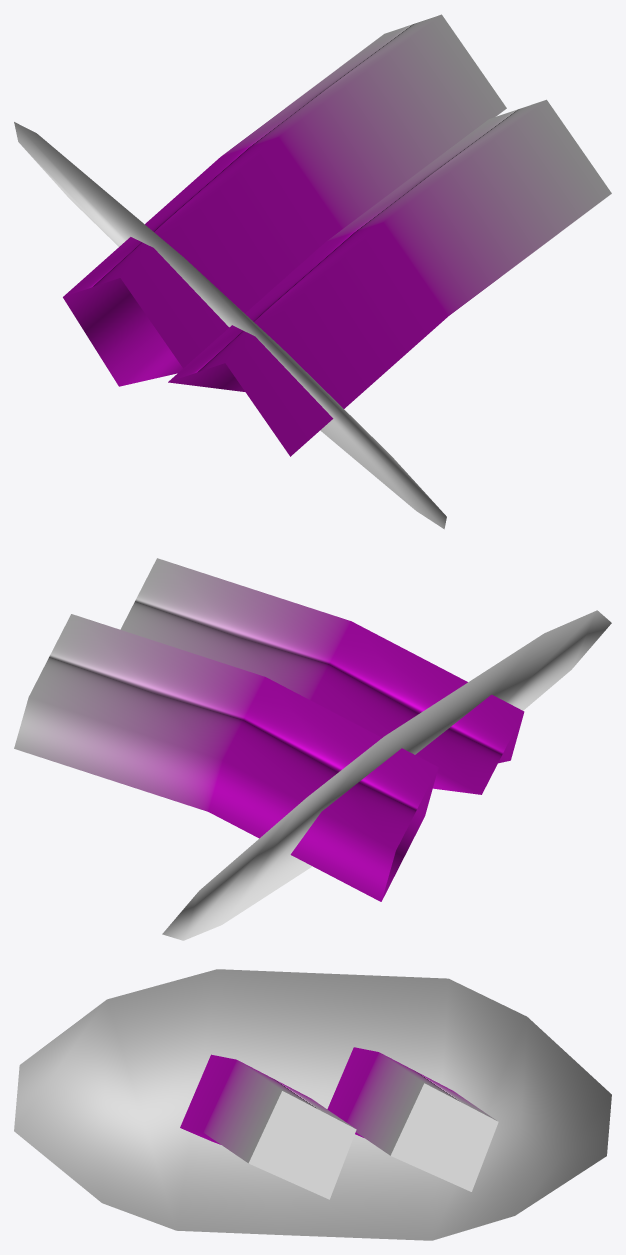
The model's file is Car_Mini_CountrymanJCW_2017_MirrorBaseL_SetXS.fbx.
The picture shows the model from 3 angles, top to bottom: view 1: azimuth 30°, elevation 25°; view 2: azimuth 150°, elevation 25°; view 3: azimuth 270°, elevation 25°; orthographic projection. The views are drawn at different scales.
Visible parts, largest first — view 1: MirrorBaseL 4; view 2: MirrorBaseL 4; view 3: MirrorBaseL 4.
Boxes of the visible parts, x1,y1,x2,y2 form: MirrorBaseL 4: [14, 14, 611, 529]; MirrorBaseL 4: [14, 558, 611, 940]; MirrorBaseL 4: [14, 969, 611, 1240].
Size of the model in its own units: 0.0235 by 0.0159 by 0.0393.
